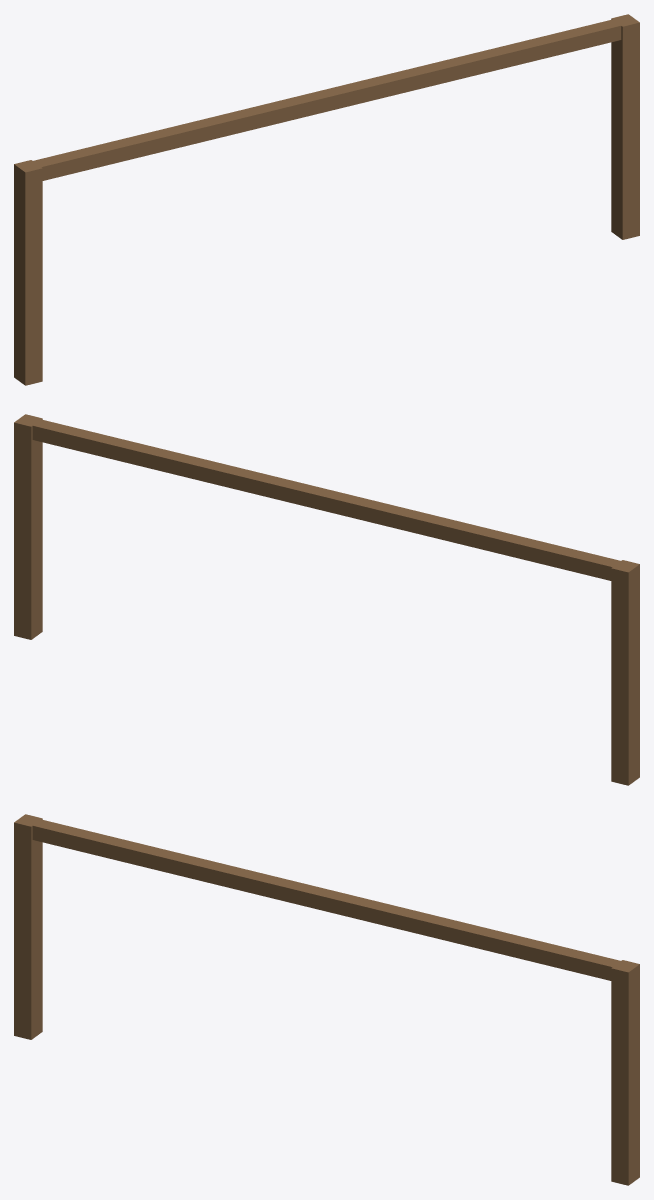
Rendered from railing-3.glb.
The picture shows the model from 3 angles, top to bottom: view 1: azimuth 30°, elevation 25°; view 2: azimuth 150°, elevation 25°; view 3: azimuth 330°, elevation 25°; orthographic projection.
Visible parts, largest first — view 1: railing; view 2: railing; view 3: railing.
Part boxes in pixels (x1=…): railing: x1=14, y1=14, x2=639, y2=385; railing: x1=14, y1=414, x2=639, y2=785; railing: x1=14, y1=814, x2=639, y2=1185.
Size of the model in its own units: 9.04 by 3 by 0.2918.
